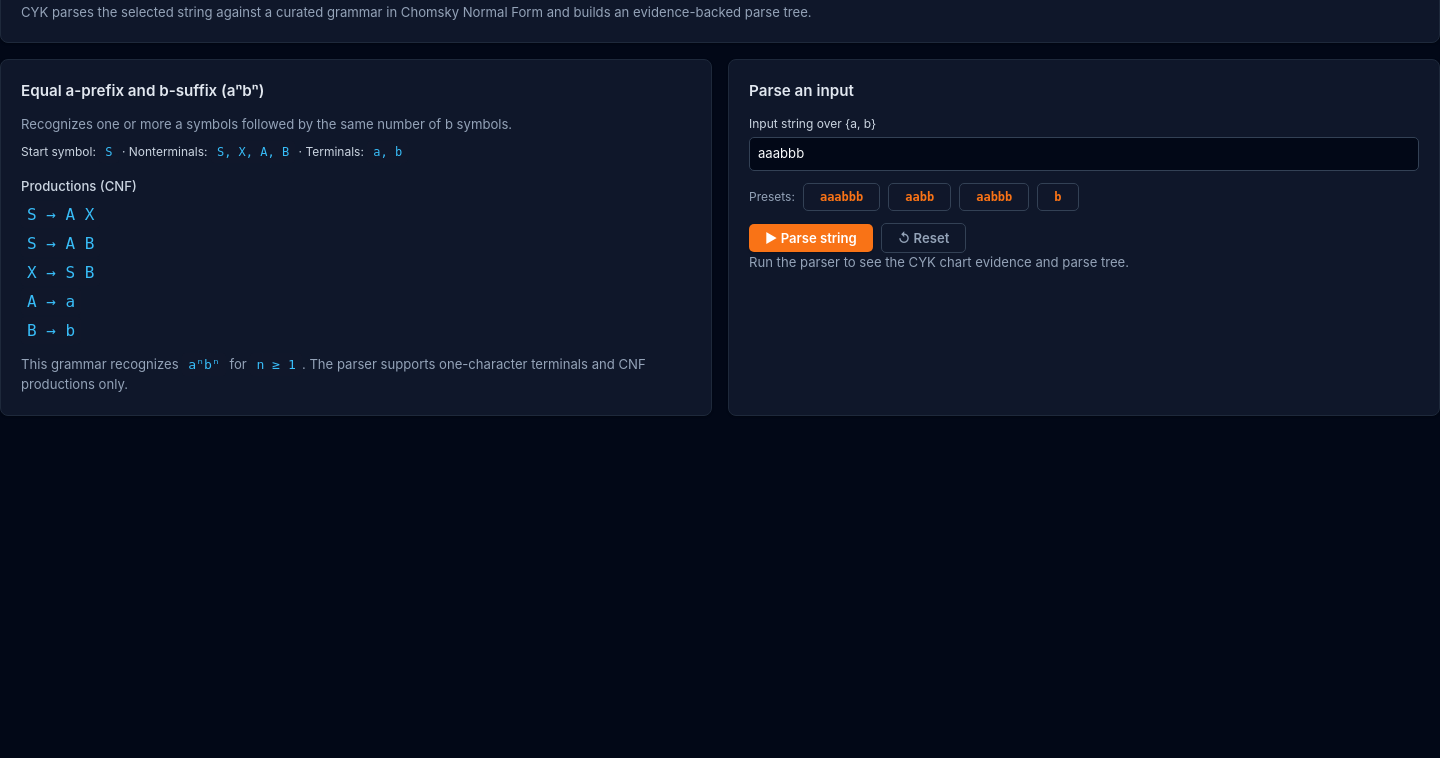
Test: TOCCFGLab › shows trace rows that match CYK engine evaluation events
This screenshot has width=1440, height=758.
Replace the text in the field named "CFG input string" with "ab": (1084, 154) [749, 137, 1419, 171]
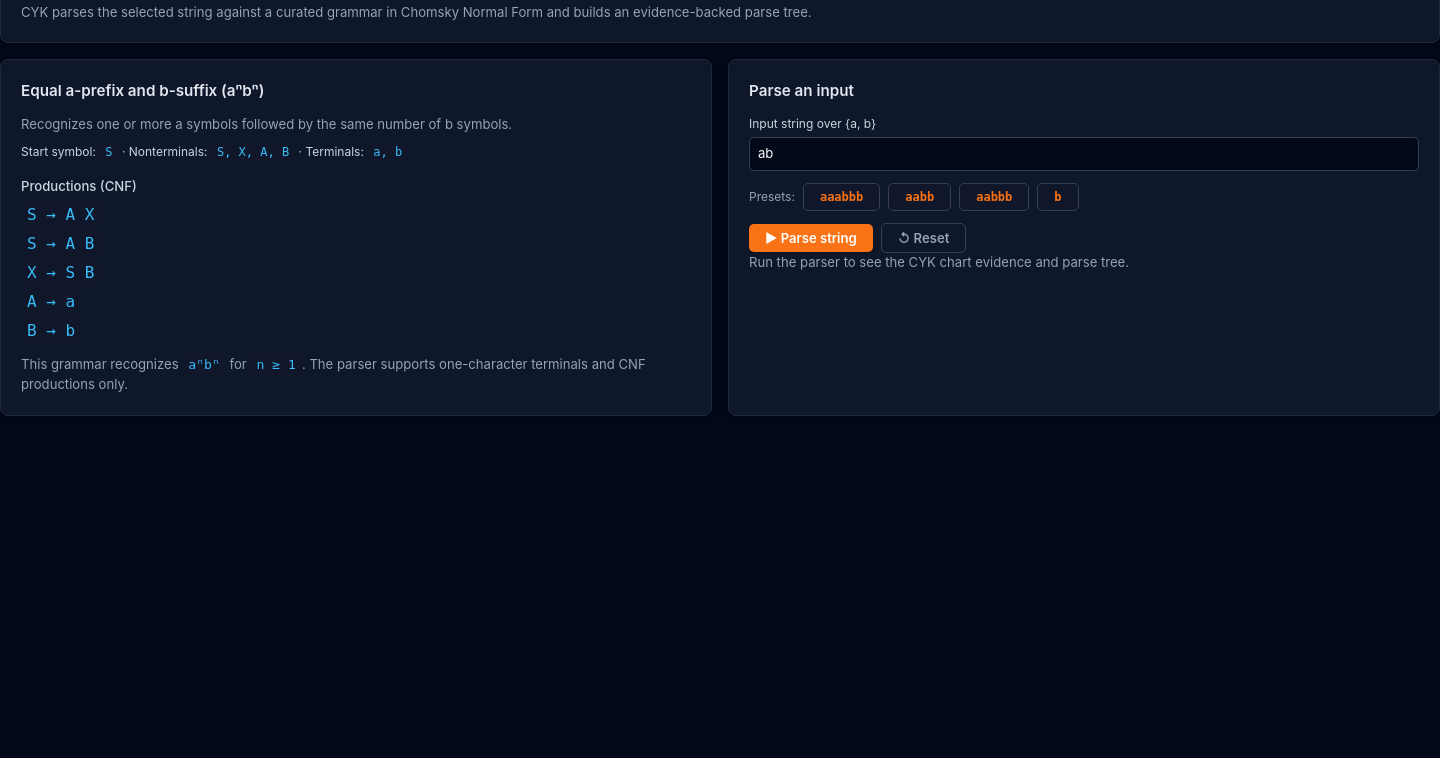
Click the button "▶ Parse string": (811, 238) [749, 224, 873, 252]
(page scrolled)
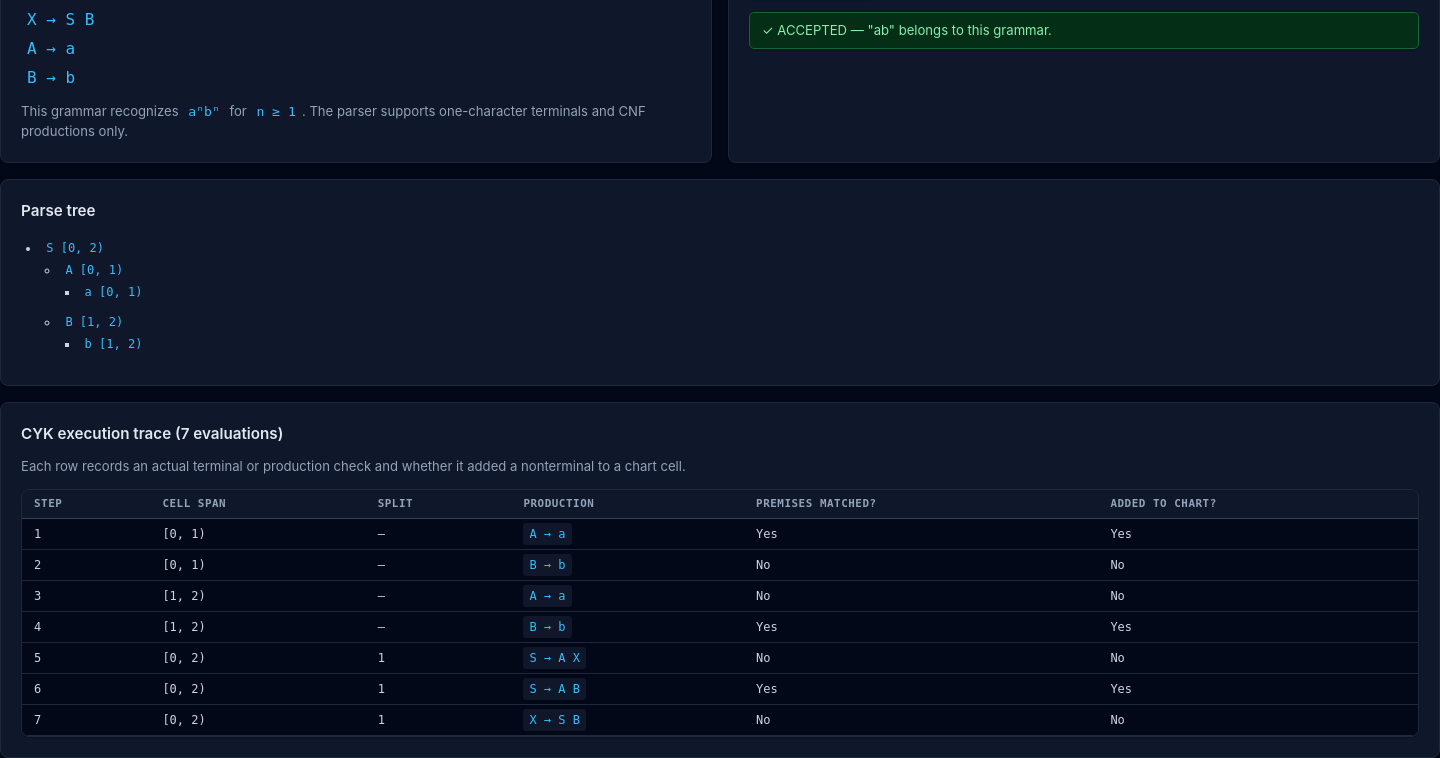
Check: the row "1 [0, 1) — A → a Yes Yes" is shown, box [22, 519, 1418, 550]
Check: the row "2 [0, 1) — B → b No No" is shown, box [22, 550, 1418, 581]
Check: the row "3 [1, 2) — A → a No No" is shown, box [22, 581, 1418, 612]
